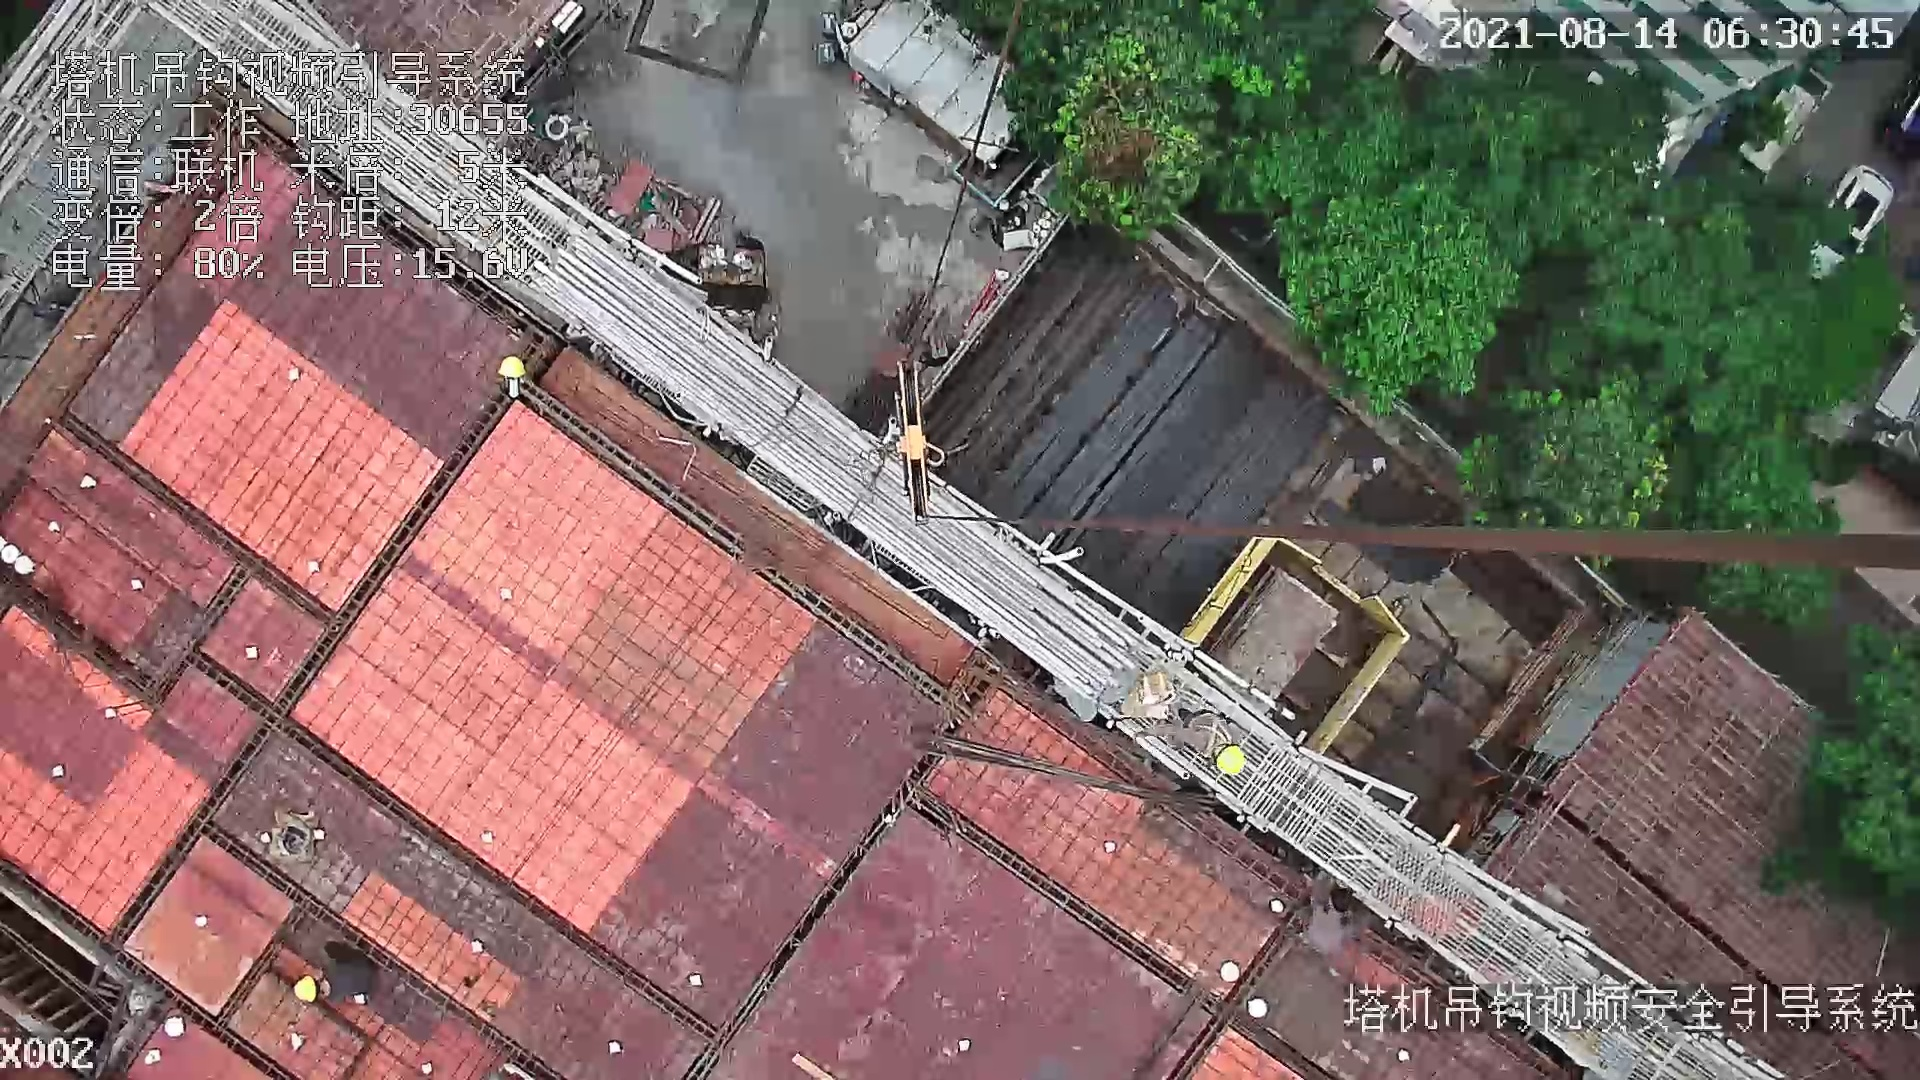helmet: (1214, 744, 1247, 778), (496, 352, 531, 381), (294, 976, 318, 1004)
hook: (878, 360, 946, 522)
person: (1160, 694, 1254, 785), (294, 936, 381, 1012)
rebar: (964, 242, 1337, 600)
